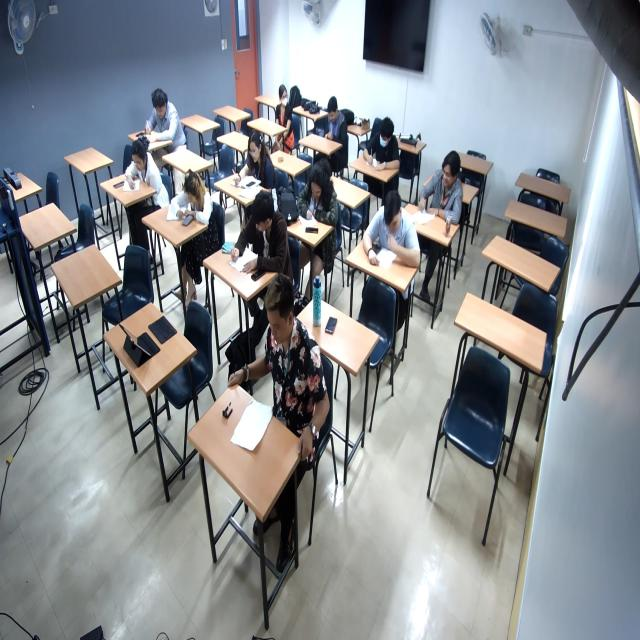read: (224, 200, 289, 290), (361, 198, 424, 287), (419, 153, 463, 230), (296, 165, 342, 236), (360, 117, 405, 182), (117, 139, 160, 202), (226, 136, 276, 190), (137, 90, 183, 147), (168, 174, 211, 232)
